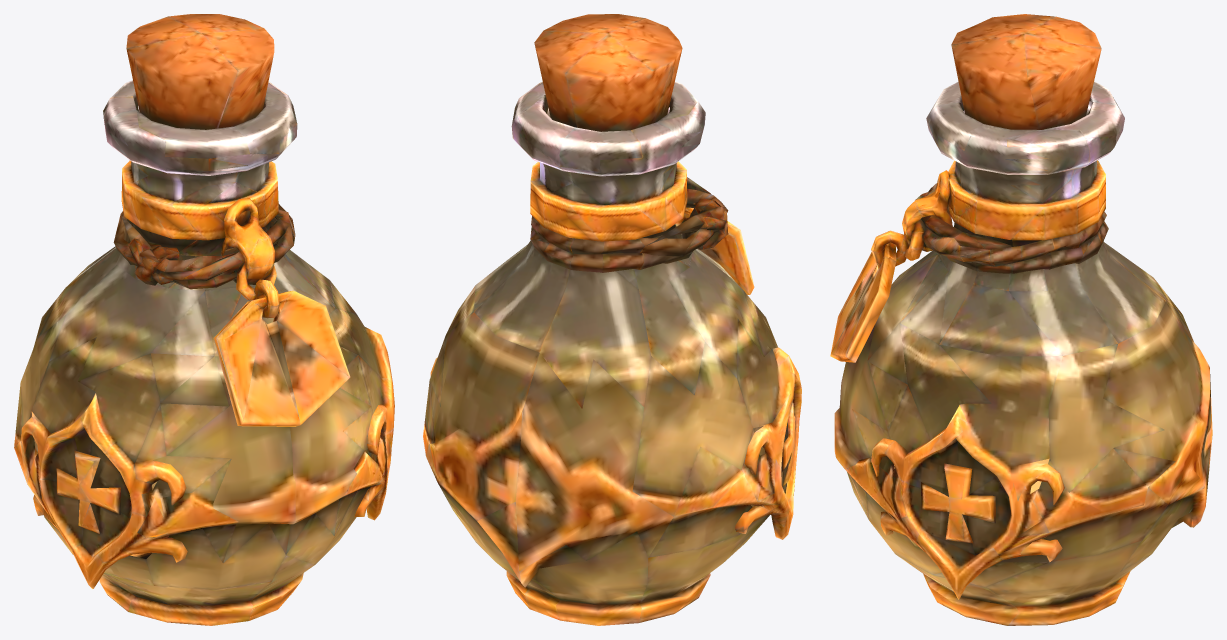
The model's file is steinhaut_stark.glb.
3 renders of one model, left to right at view 1: azimuth 30°, elevation 25°; view 2: azimuth 150°, elevation 25°; view 3: azimuth 270°, elevation 25°, orthographic.
Visible parts, largest first — view 1: heiltrank; view 2: heiltrank; view 3: heiltrank.
Part boxes in pixels (left/top/right/bottom): heiltrank: left=14, top=14, right=394, bottom=625; heiltrank: left=423, top=14, right=801, bottom=625; heiltrank: left=830, top=14, right=1212, bottom=625.
Bounding box in the file's own units: 0.1893 × 0.3 × 0.1881.
1 material, 1 textured.
